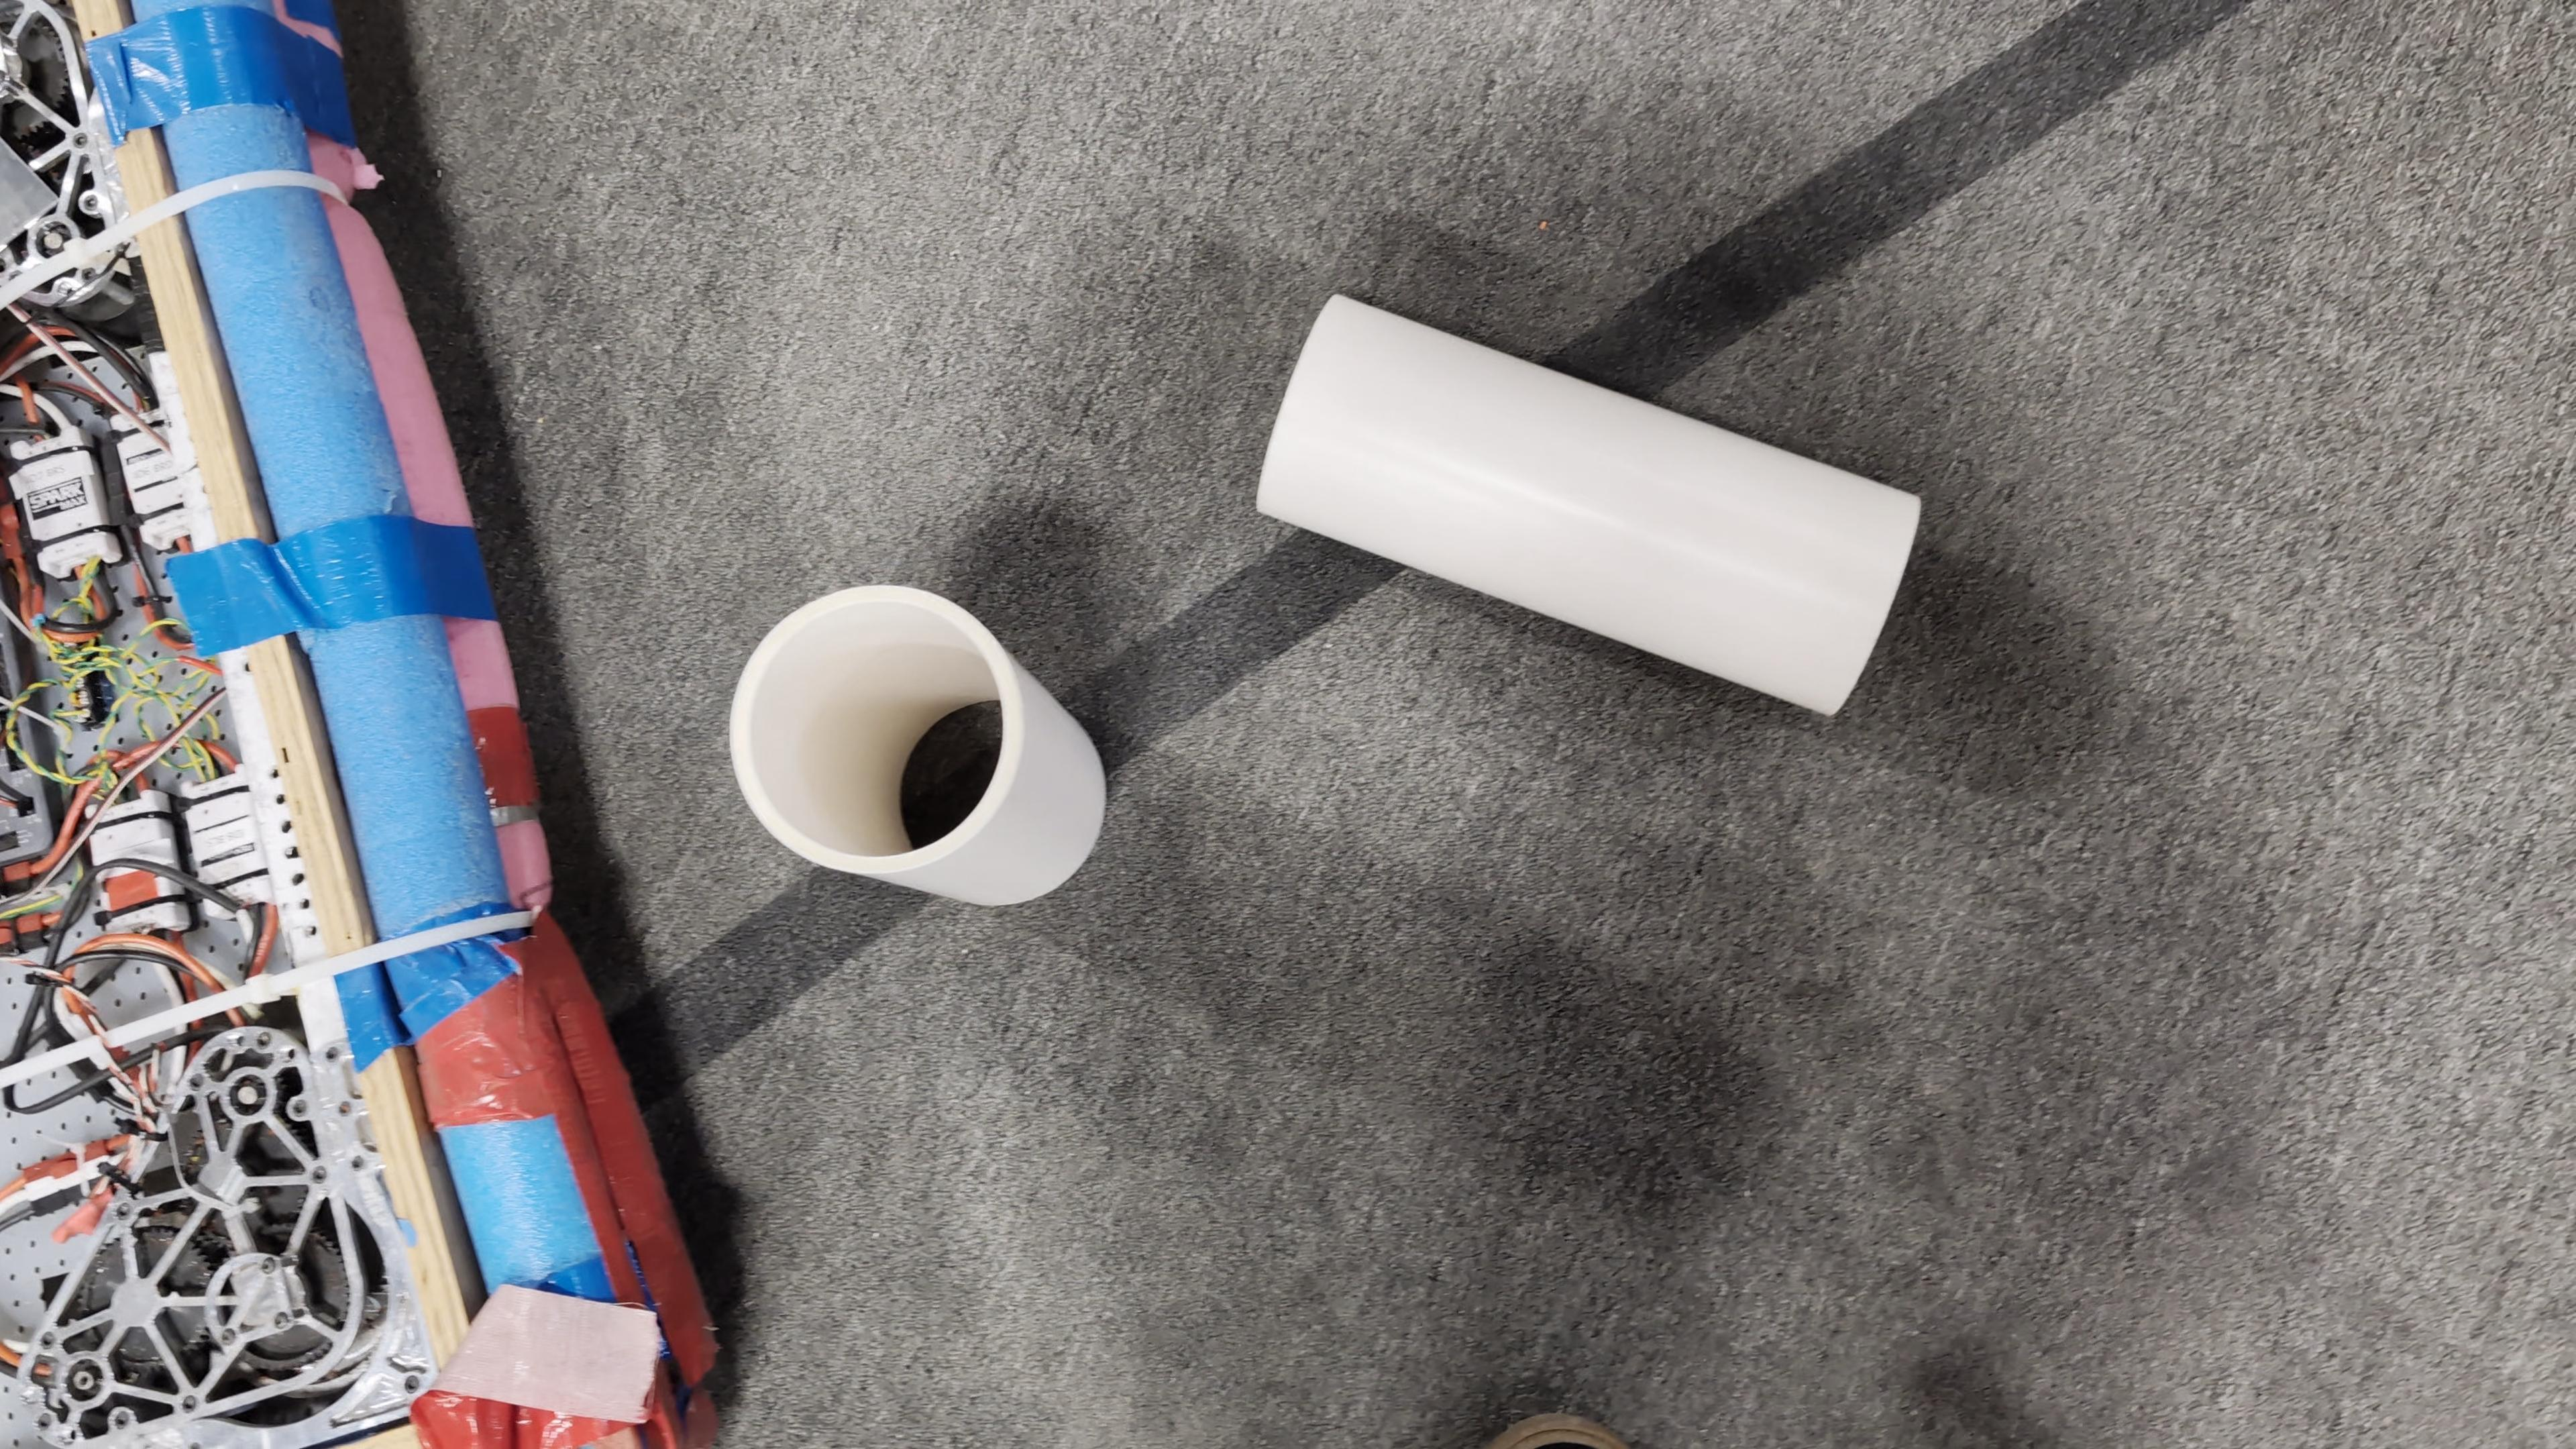coral: (1256, 287, 1927, 718), (727, 579, 1109, 908)
